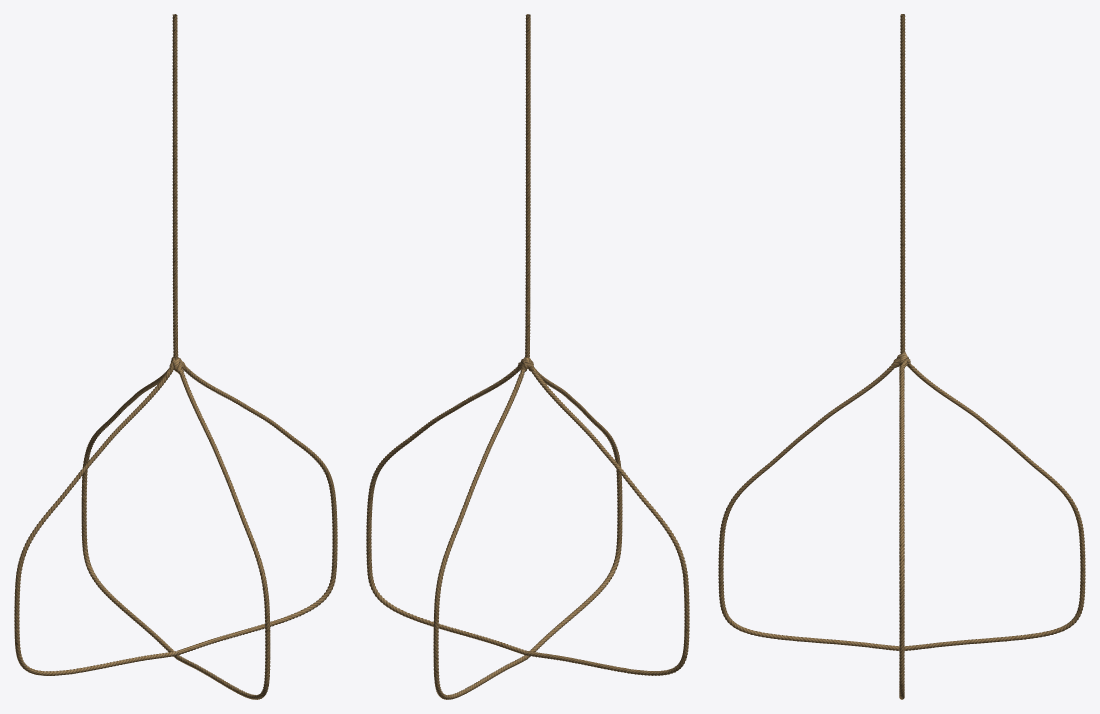
File: rope.fbx
The picture shows the model from 3 angles, left to right: view 1: azimuth 30°, elevation 25°; view 2: azimuth 150°, elevation 25°; view 3: azimuth 270°, elevation 25°; orthographic projection.
Visible parts, largest first — view 1: rope2; view 2: rope2; view 3: rope2.
Boxes of the visible parts, x1=… form: rope2: x1=14, y1=14, x2=337, y2=699; rope2: x1=366, y1=14, x2=689, y2=699; rope2: x1=718, y1=14, x2=1085, y2=699.
Bounding box in the file's own units: 159 × 303 × 159.
Materials: 1 (1 with a texture image).
